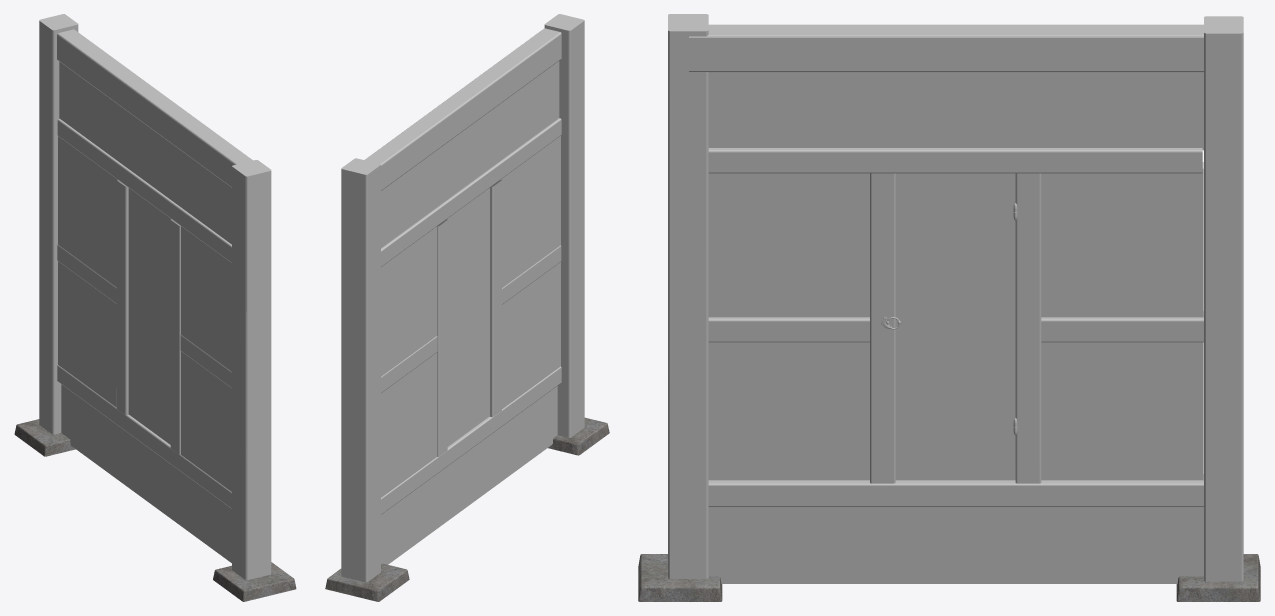
File: SM_Building_Wall_10.FBX
The picture shows the model from 3 angles, left to right: view 1: azimuth 30°, elevation 25°; view 2: azimuth 150°, elevation 25°; view 3: azimuth 270°, elevation 25°; orthographic projection. The views are drawn at different scales.
Parts seen in each view (by area): view 1: SM_Building_Wall_10; view 2: SM_Building_Wall_10; view 3: SM_Building_Wall_10.
Part boxes in pixels (x1,y1,x2,y2): SM_Building_Wall_10: (14,14,296,601); SM_Building_Wall_10: (325,14,609,601); SM_Building_Wall_10: (638,14,1260,601).
Bounding box in the file's own units: 67.32 × 496 × 498.
